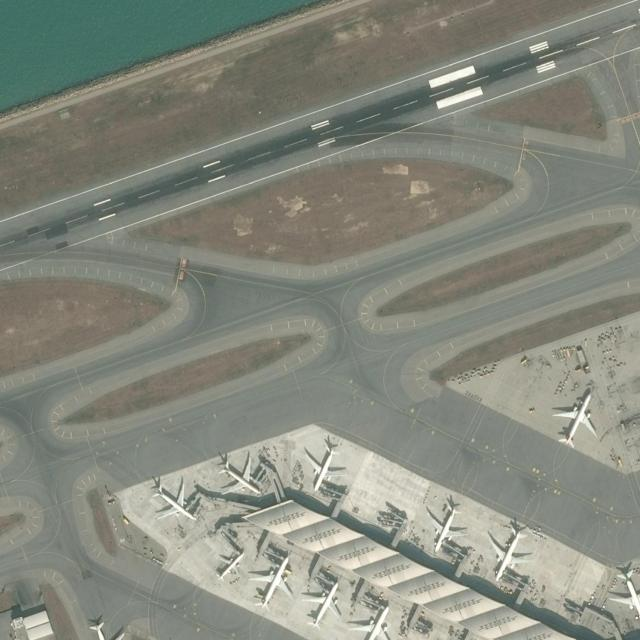Aircraft: (551, 389, 599, 449), (487, 521, 533, 582), (247, 553, 295, 611), (424, 497, 467, 554), (303, 437, 346, 493), (145, 475, 195, 523), (302, 577, 345, 631), (603, 566, 640, 626), (216, 452, 262, 498), (350, 598, 395, 640), (207, 545, 247, 583), (76, 617, 128, 640)
